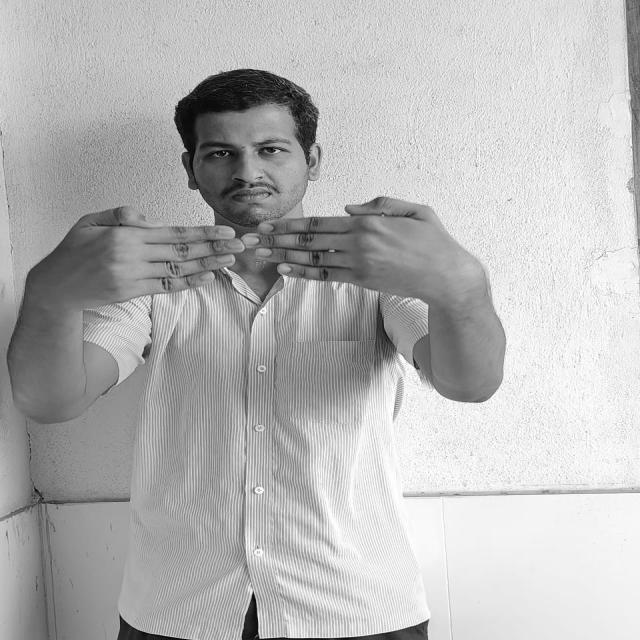Night: (34, 196, 472, 302)
